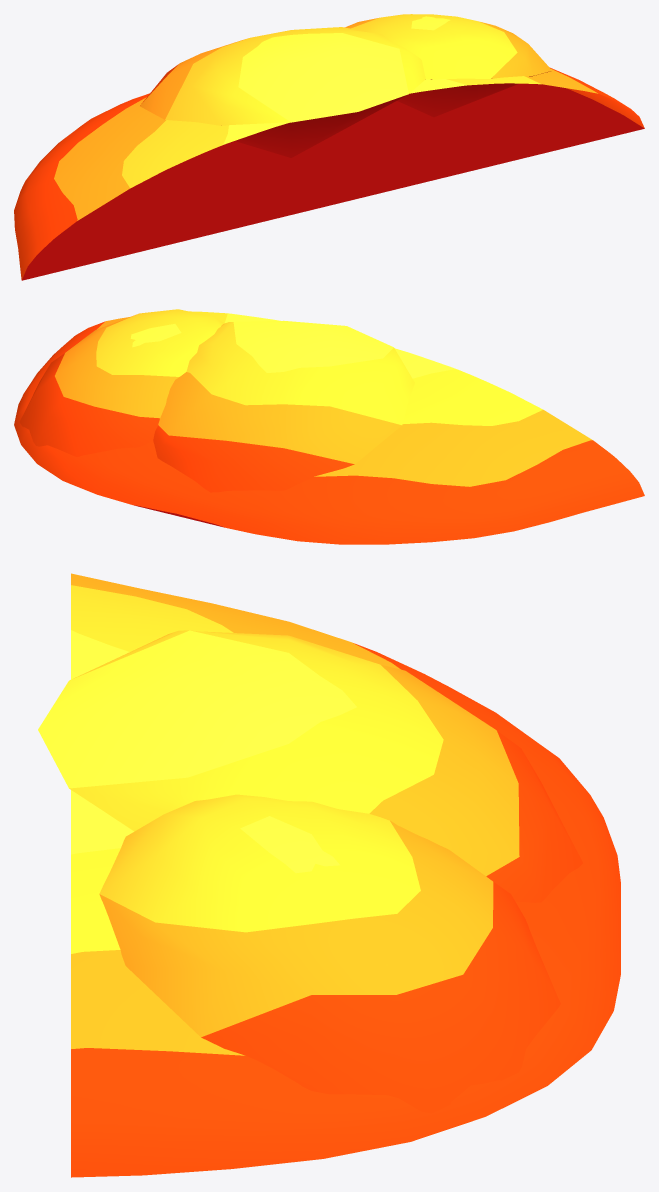
The model's file is shot_plasmastorm_22.glb.
3 renders of one model, top to bottom at view 1: azimuth 30°, elevation 25°; view 2: azimuth 150°, elevation 25°; view 3: azimuth 270°, elevation 25°, orthographic. The views are drawn at different scales.
Visible parts, largest first — view 1: plasmastorm_bed_o22, plasmastorm_billow7_o22, plasmastorm_billow9_o22; view 2: plasmastorm_bed_o22, plasmastorm_billow7_o22, plasmastorm_billow9_o22; view 3: plasmastorm_billow9_o22, plasmastorm_bed_o22, plasmastorm_billow7_o22.
Part boxes in pixels (left/top/right/bottom): plasmastorm_bed_o22: left=14, top=67, right=644, bottom=280; plasmastorm_billow7_o22: left=140, top=27, right=425, bottom=157; plasmastorm_billow9_o22: left=345, top=14, right=551, bottom=117; plasmastorm_bed_o22: left=14, top=311, right=644, bottom=544; plasmastorm_billow7_o22: left=153, top=320, right=414, bottom=492; plasmastorm_billow9_o22: left=19, top=309, right=224, bottom=456; plasmastorm_billow9_o22: left=99, top=794, right=560, bottom=1113; plasmastorm_bed_o22: left=71, top=573, right=620, bottom=1177; plasmastorm_billow7_o22: left=38, top=630, right=582, bottom=902.
Bounding box in the file's own units: 58.7 × 11.01 × 25.45.
